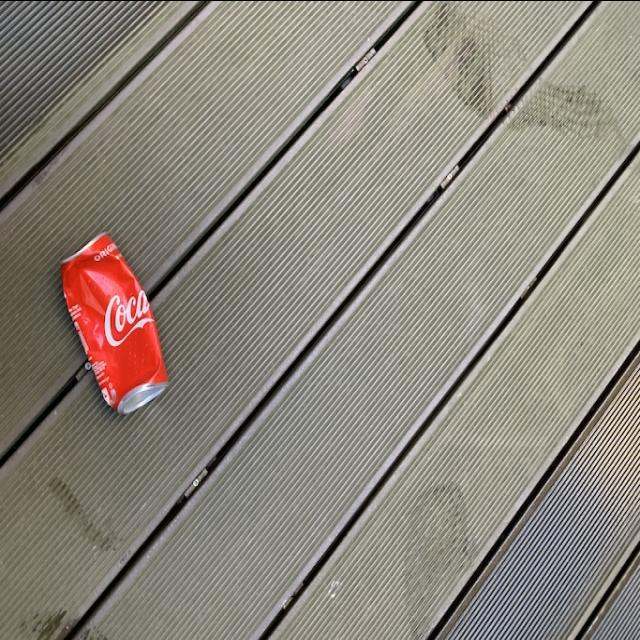litter: (58, 230, 170, 420)
